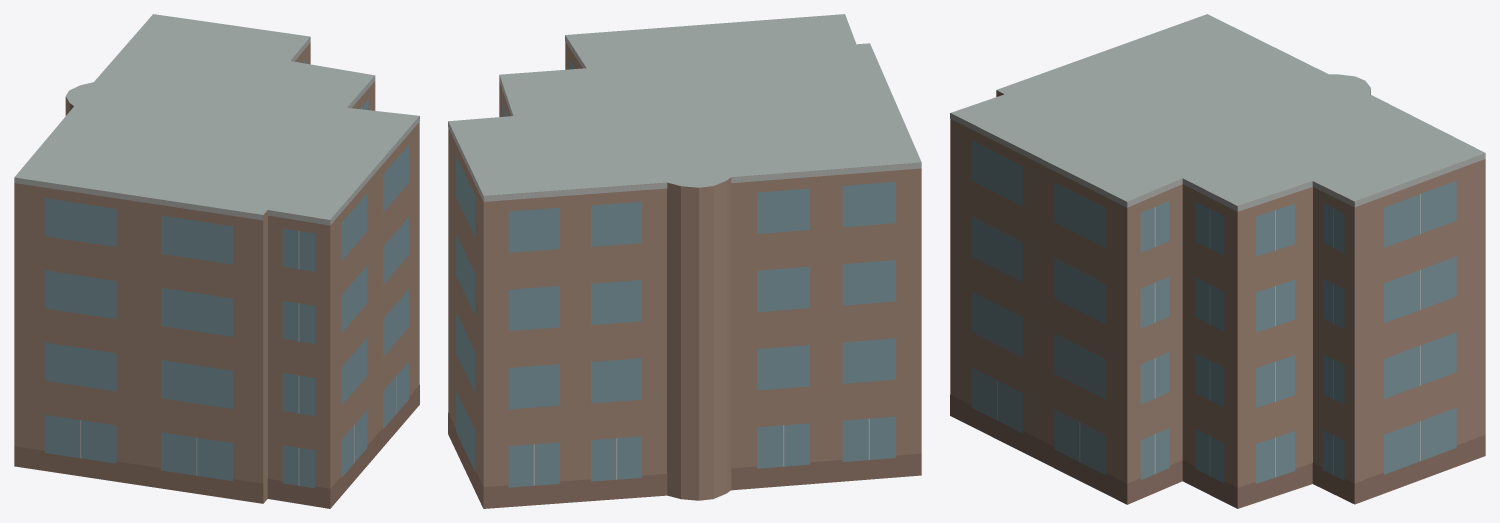
File: survey-upis-32507285.glb
The picture shows the model from 3 angles, left to right: view 1: azimuth 30°, elevation 25°; view 2: azimuth 150°, elevation 25°; view 3: azimuth 270°, elevation 25°; orthographic projection. The views are drawn at different scales.
Visible parts, largest first — view 1: survey-upis-32507285.tmp; view 2: survey-upis-32507285.tmp; view 3: survey-upis-32507285.tmp.
Boxes of the visible parts, left/top/right/bottom form: survey-upis-32507285.tmp: left=14, top=14, right=419, bottom=508; survey-upis-32507285.tmp: left=448, top=14, right=921, bottom=508; survey-upis-32507285.tmp: left=950, top=14, right=1485, bottom=508.
Size of the model in its own units: 17.28 by 12.7 by 20.36.
